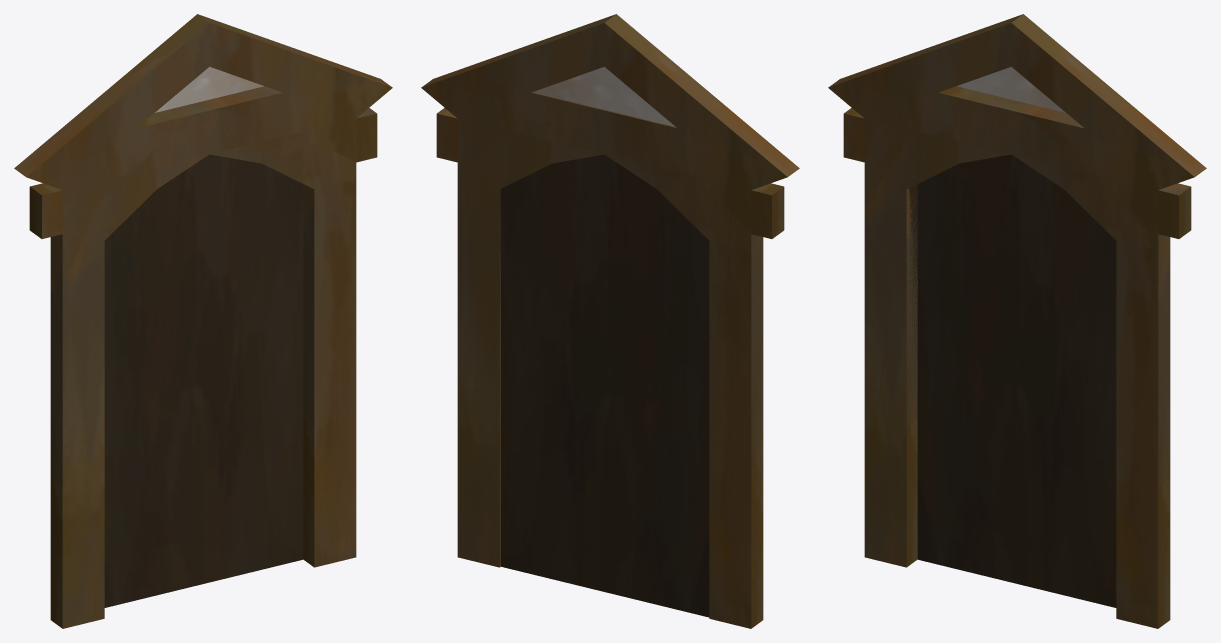
Rendered from PoorDistrictDoorframes_Model 1.fbx.
The picture shows the model from 3 angles, left to right: view 1: azimuth 30°, elevation 25°; view 2: azimuth 150°, elevation 25°; view 3: azimuth 330°, elevation 25°; orthographic projection.
Parts seen in each view (by area): view 1: Doorframe2, Doorframe1, Doorframe3; view 2: Doorframe1, Doorframe2, Doorframe3; view 3: Doorframe2, Doorframe1, Doorframe3.
Part boxes in pixels (x1,y1,x2,y2): Doorframe2: [50, 110, 356, 628]; Doorframe1: [14, 14, 392, 627]; Doorframe3: [29, 108, 377, 628]; Doorframe1: [421, 14, 799, 627]; Doorframe2: [457, 111, 763, 628]; Doorframe3: [436, 108, 784, 619]; Doorframe2: [864, 110, 1158, 625]; Doorframe1: [828, 14, 1206, 626]; Doorframe3: [843, 108, 1191, 628].
Size of the model in its own units: 175 by 260 by 10.
